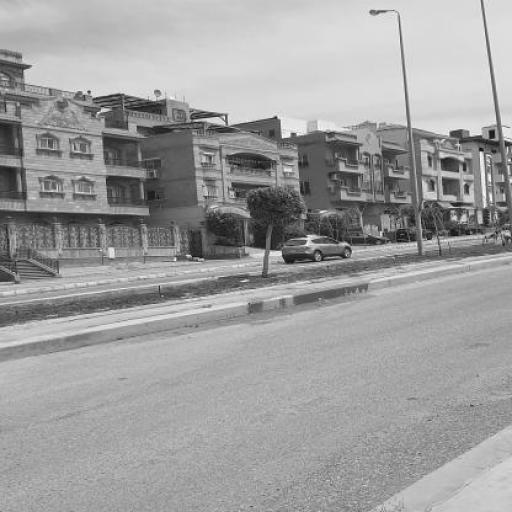street light: (368, 8, 427, 256)
